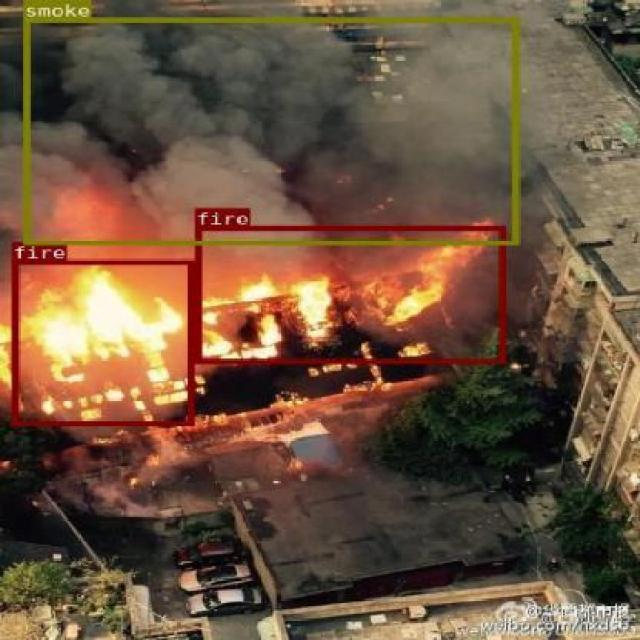Fire: (194, 225, 503, 362), (12, 258, 194, 424)
Smoke: (22, 18, 518, 244)
